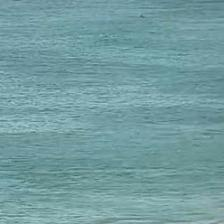surfer: (139, 14, 147, 20)
